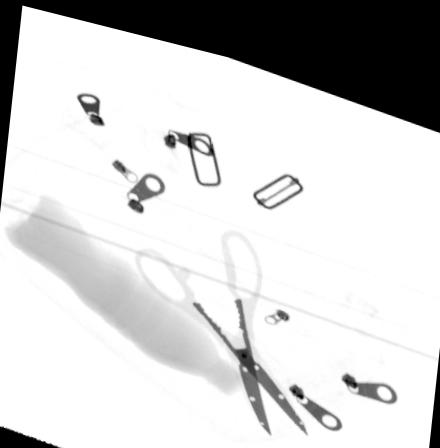Scissors: (133, 214, 309, 422)
